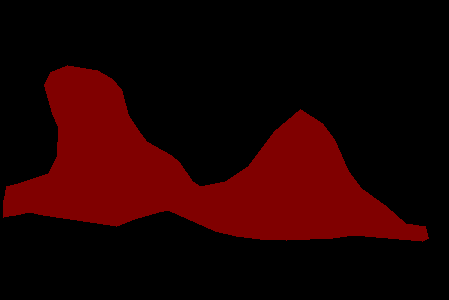fire: (3, 65, 428, 241)
